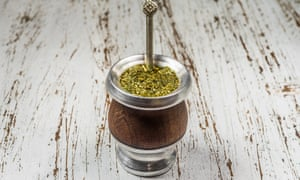guampa: (101, 1, 195, 177)
